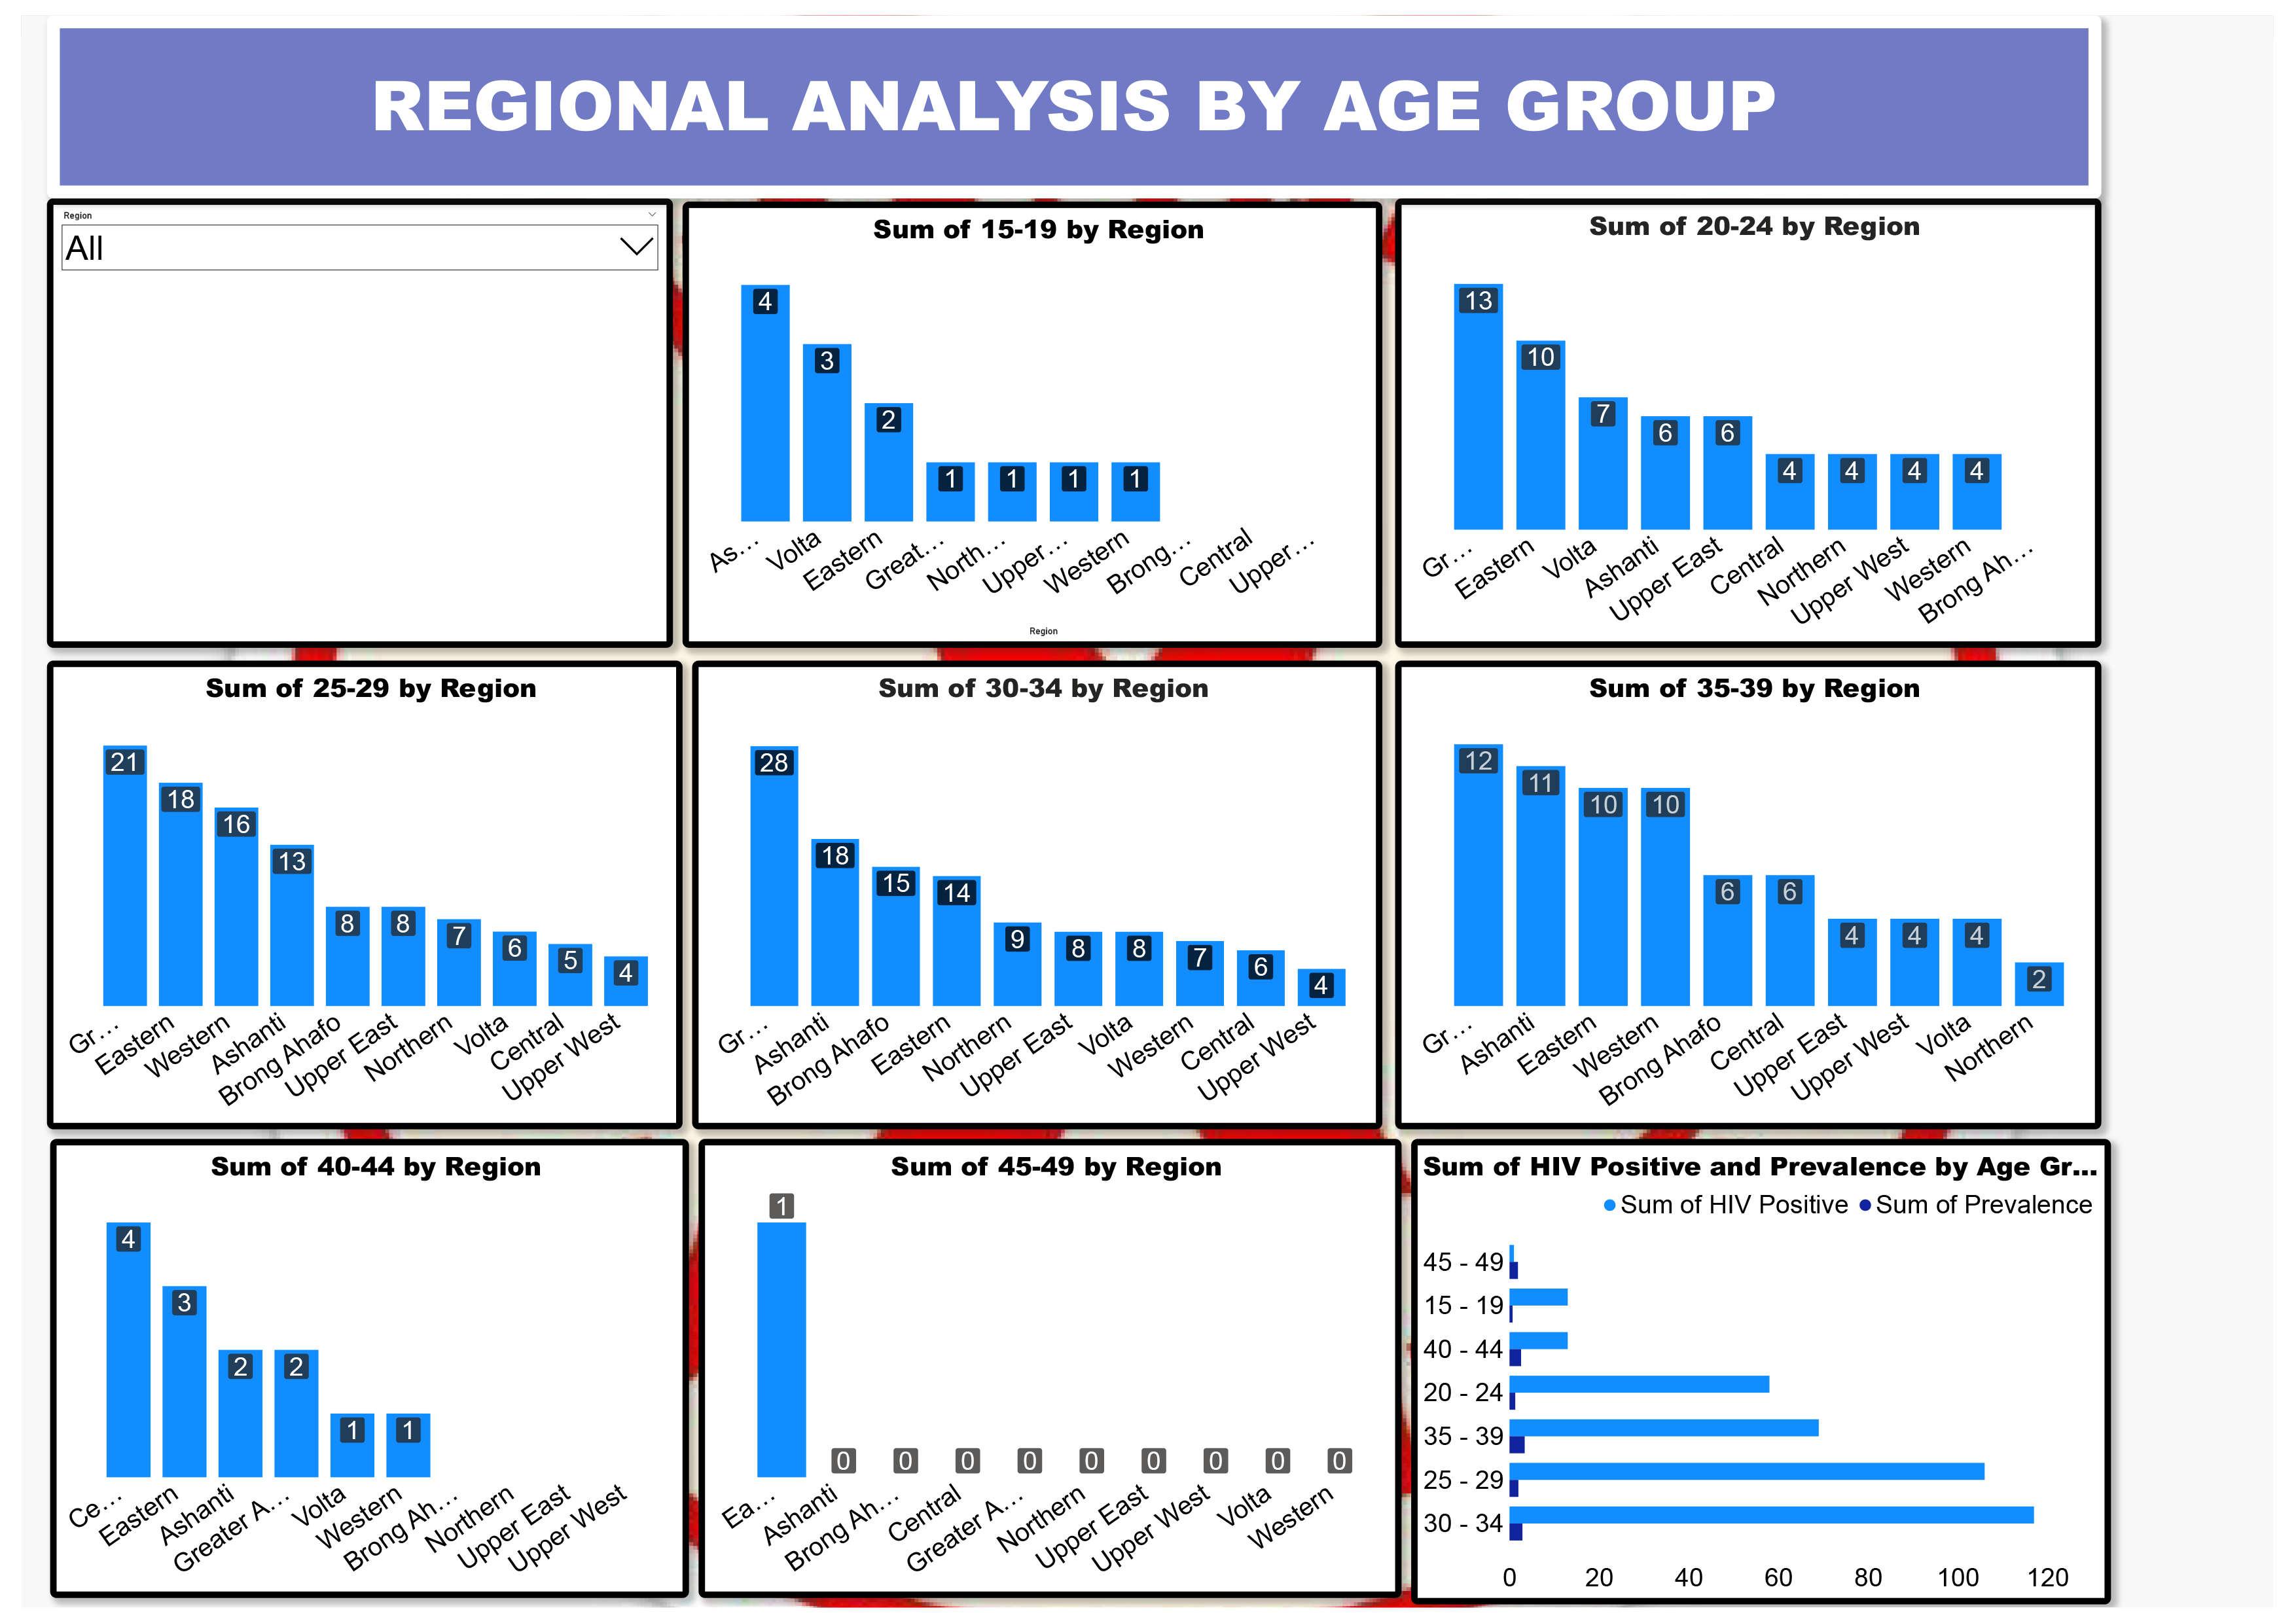

What the dashboard file says about the page in this screenshot:
{"tool":"powerbi","page":{"name":"Last Page","canvas":[3508,2480],"ordinal":1},"visuals":[{"type":"columnChart","fields":{"Y":["Sum(HIV POSITIVE BY AGE GROUP & SITE.20-24)"],"Category":["HIV POSITIVE BY AGE GROUP & SITE.Region"]},"box":[2140,285,1100,700],"z":0},{"type":"columnChart","fields":{"Y":["Sum(HIV POSITIVE BY AGE GROUP & SITE.25-29)"],"Category":["HIV POSITIVE BY AGE GROUP & SITE.Region"]},"box":[40,1005,990,730],"z":1000},{"type":"columnChart","fields":{"Y":["Sum(HIV POSITIVE BY AGE GROUP & SITE.30-34)"],"Category":["HIV POSITIVE BY AGE GROUP & SITE.Region"]},"box":[1045,1005,1075,730],"z":2000},{"type":"columnChart","fields":{"Y":["Sum(HIV POSITIVE BY AGE GROUP & SITE.35-39)"],"Category":["HIV POSITIVE BY AGE GROUP & SITE.Region"]},"box":[2140,1005,1100,730],"z":3000},{"type":"columnChart","fields":{"Y":["Sum(HIV POSITIVE BY AGE GROUP & SITE.40-44)"],"Category":["HIV POSITIVE BY AGE GROUP & SITE.Region"]},"box":[45,1750,995,715],"z":4000},{"type":"columnChart","fields":{"Y":["Sum(HIV POSITIVE BY AGE GROUP & SITE.45-49)"],"Category":["HIV POSITIVE BY AGE GROUP & SITE.Region"]},"box":[1055,1750,1095,715],"z":5000},{"type":"slicer","fields":{"Values":["HIV POSITIVE BY AGE GROUP & SITE.Region"]},"box":[40,285,975,700],"z":6000},{"type":"textbox","box":[40,0,3200,285],"z":7000},{"type":"columnChart","fields":{"Category":["HIV POSITIVE BY AGE GROUP & SITE.Region"],"Y":["Sum(HIV POSITIVE BY AGE GROUP & SITE.15-19)"]},"box":[1030,290,1090,695],"z":8000},{"type":"clusteredBarChart","title":"Sum of HIV Positive and Prevalence by Age Group","fields":{"Category":["HIV PREVALENCE BY AGE GROUP.Age Group"],"Y":["Sum(HIV PREVALENCE BY AGE GROUP.HIV Positive)","Sum(HIV PREVALENCE BY AGE GROUP.Prevalence)"]},"box":[2165,1750,1090,725],"z":9000}]}

Visuals, with their boxes in screenshot pixels (x1, y1, x2, y2), scaled from the page's 3508x2480 canvas onto the 2296x1623 screenshot:
columnChart - Sum(HIV POSITIVE BY AGE GROUP & SITE.20-24) x HIV POSITIVE BY AGE GROUP & SITE.Region: locate(1401, 187, 2121, 645)
columnChart - Sum(HIV POSITIVE BY AGE GROUP & SITE.25-29) x HIV POSITIVE BY AGE GROUP & SITE.Region: locate(26, 658, 674, 1135)
columnChart - Sum(HIV POSITIVE BY AGE GROUP & SITE.30-34) x HIV POSITIVE BY AGE GROUP & SITE.Region: locate(684, 658, 1388, 1135)
columnChart - Sum(HIV POSITIVE BY AGE GROUP & SITE.35-39) x HIV POSITIVE BY AGE GROUP & SITE.Region: locate(1401, 658, 2121, 1135)
columnChart - Sum(HIV POSITIVE BY AGE GROUP & SITE.40-44) x HIV POSITIVE BY AGE GROUP & SITE.Region: locate(29, 1145, 681, 1613)
columnChart - Sum(HIV POSITIVE BY AGE GROUP & SITE.45-49) x HIV POSITIVE BY AGE GROUP & SITE.Region: locate(691, 1145, 1407, 1613)
slicer - HIV POSITIVE BY AGE GROUP & SITE.Region: locate(26, 187, 664, 645)
textbox: locate(26, 0, 2121, 187)
columnChart - HIV POSITIVE BY AGE GROUP & SITE.Region x Sum(HIV POSITIVE BY AGE GROUP & SITE.15-19): locate(674, 190, 1388, 645)
"Sum of HIV Positive and Prevalence by Age Group" clusteredBarChart: locate(1417, 1145, 2130, 1620)
